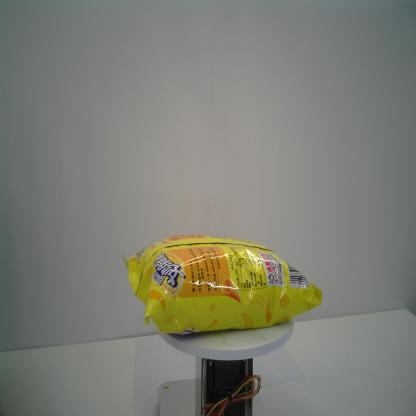Puffed Food: (120, 232, 324, 332)
